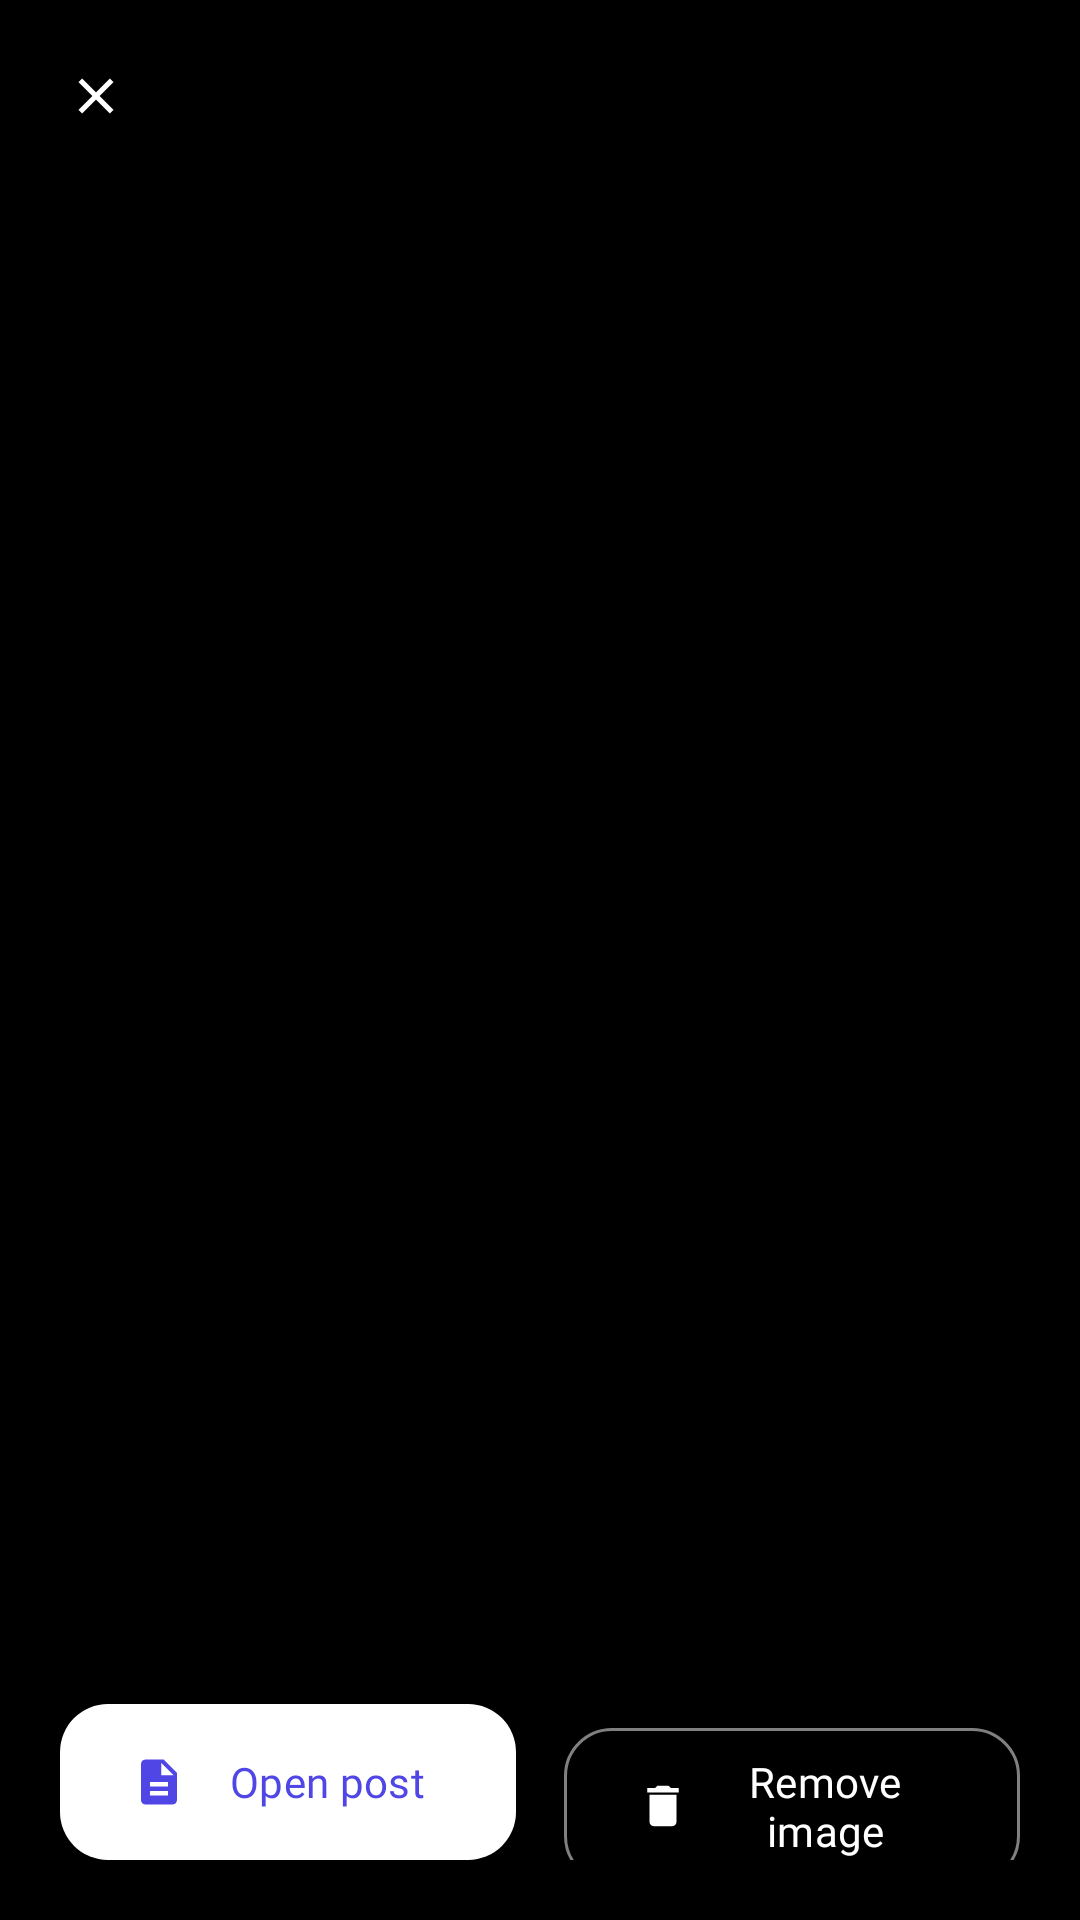

Icon bounding boxes for this 1080w x 1920h phone screenshot, format [x1,y1,x2,y2]:
Back: [78,78,114,114]
